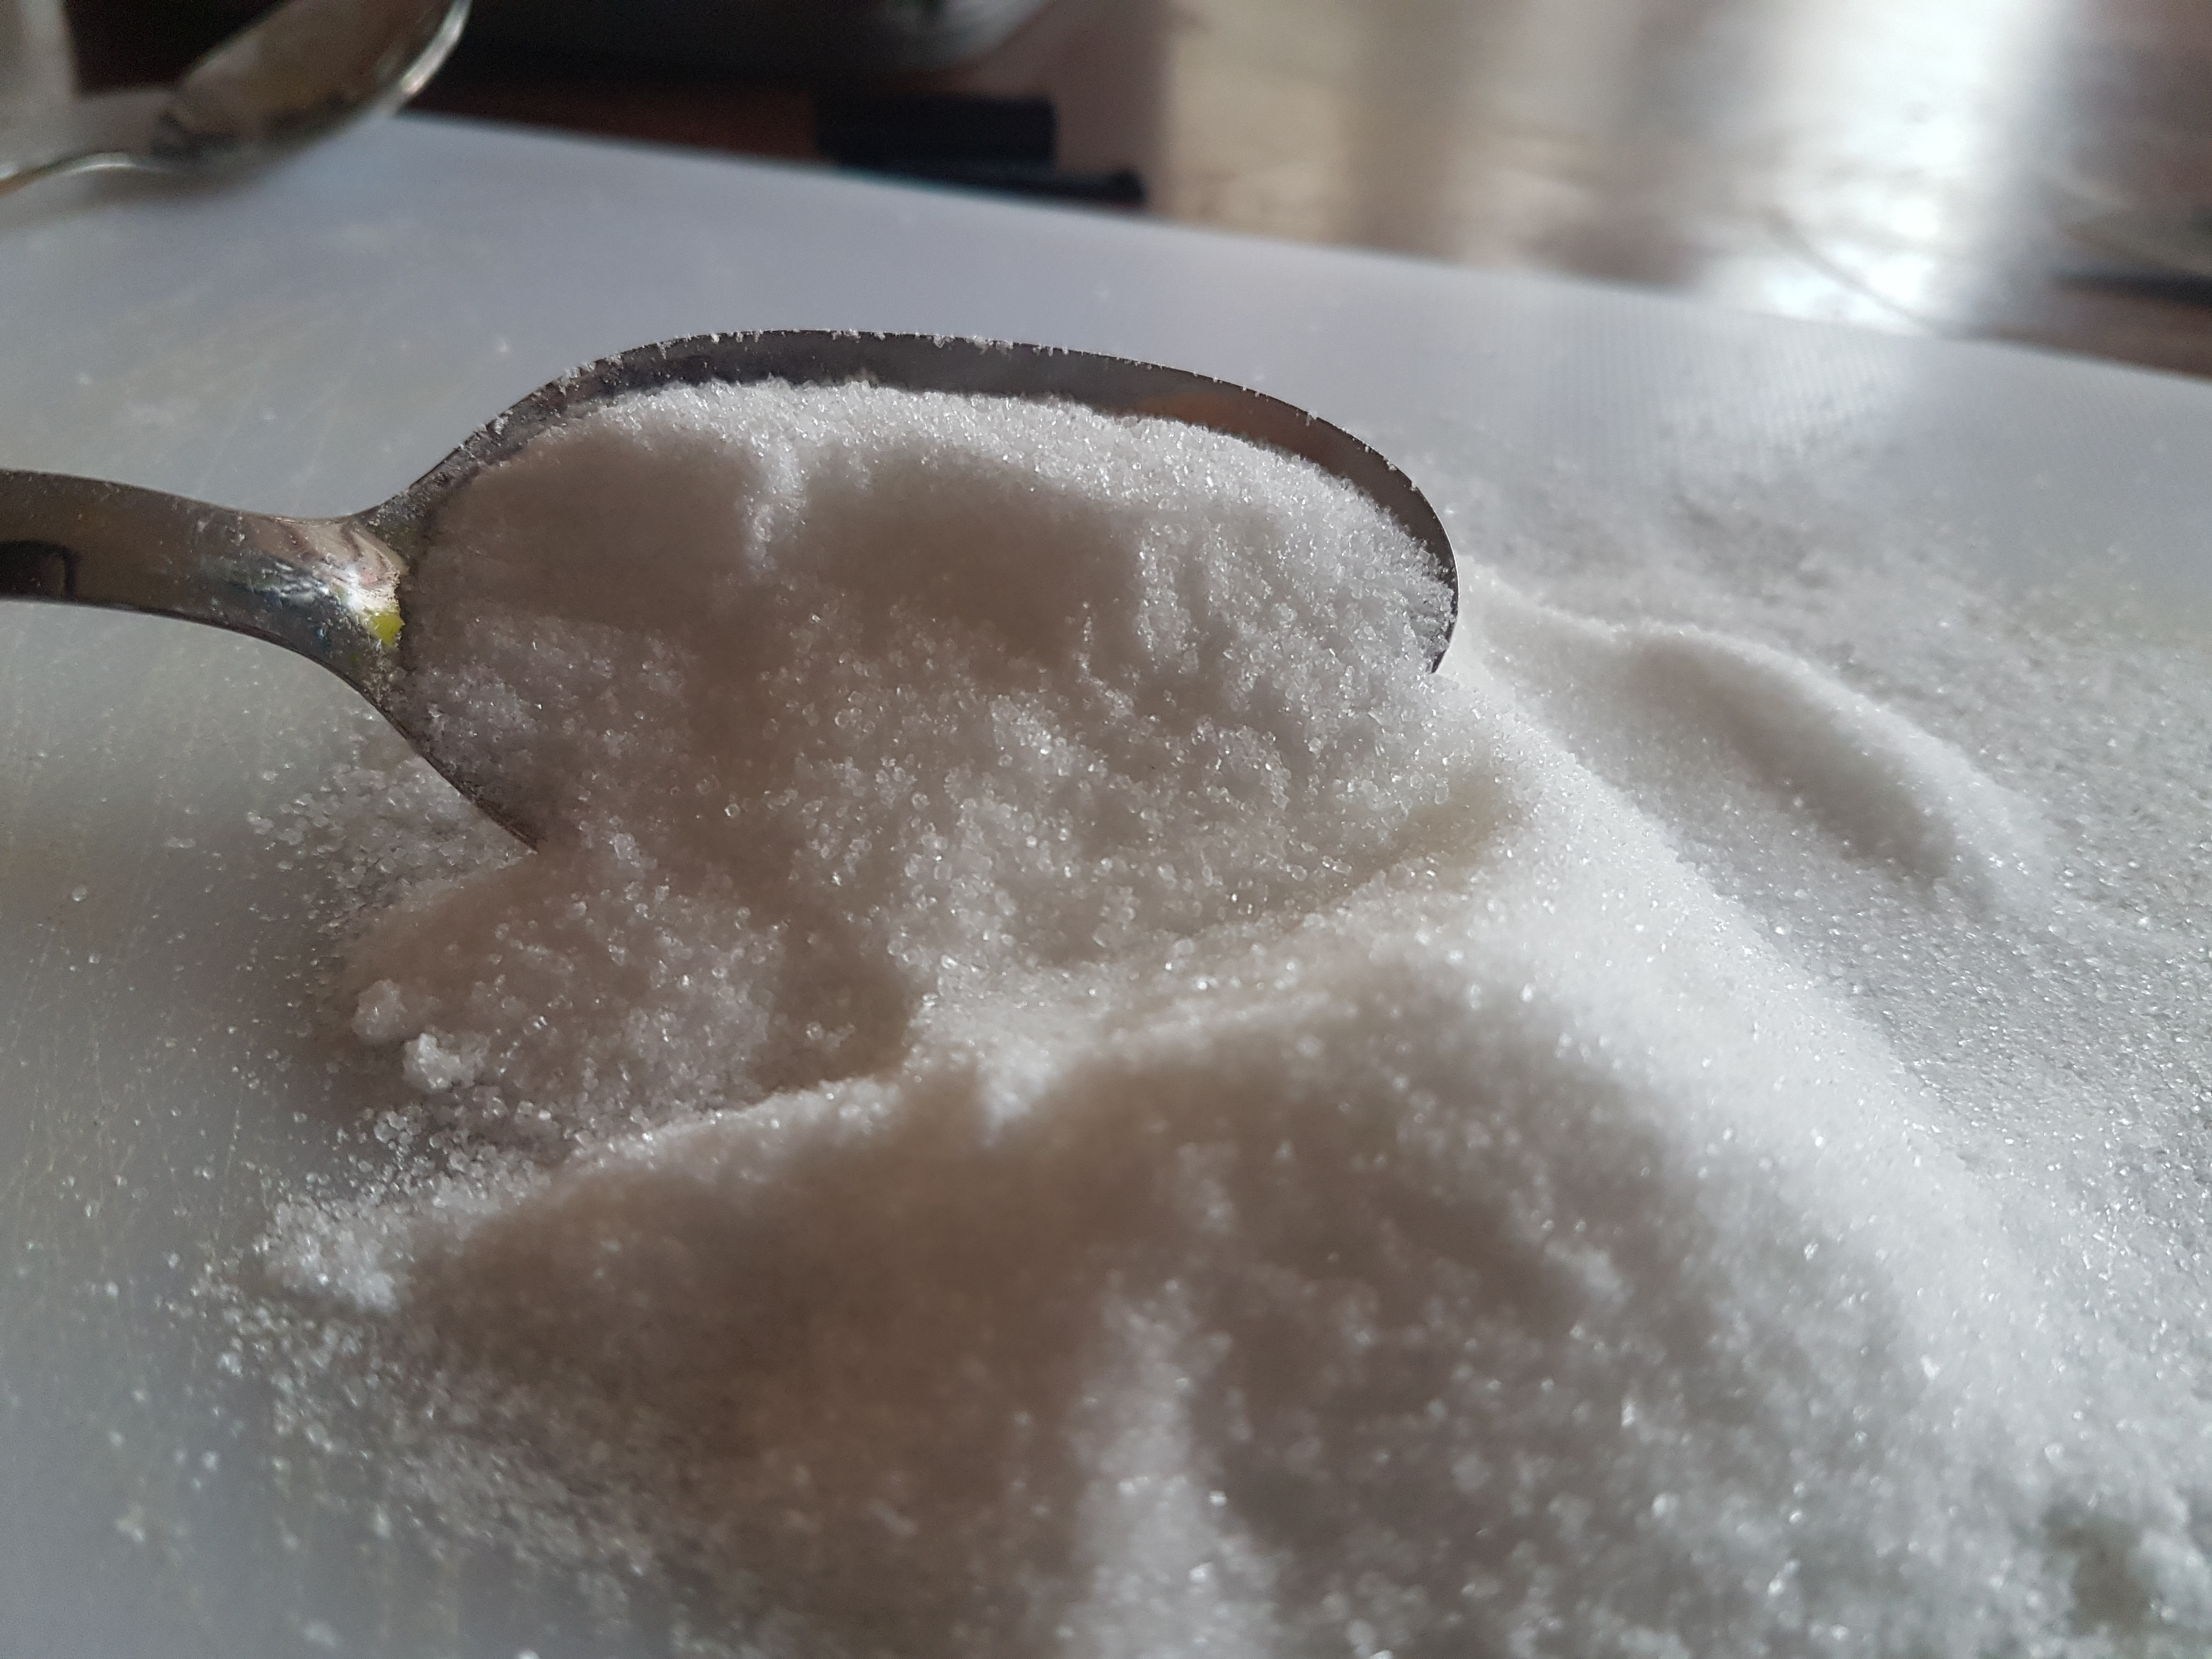Sugar: (324, 328, 2212, 1656)
